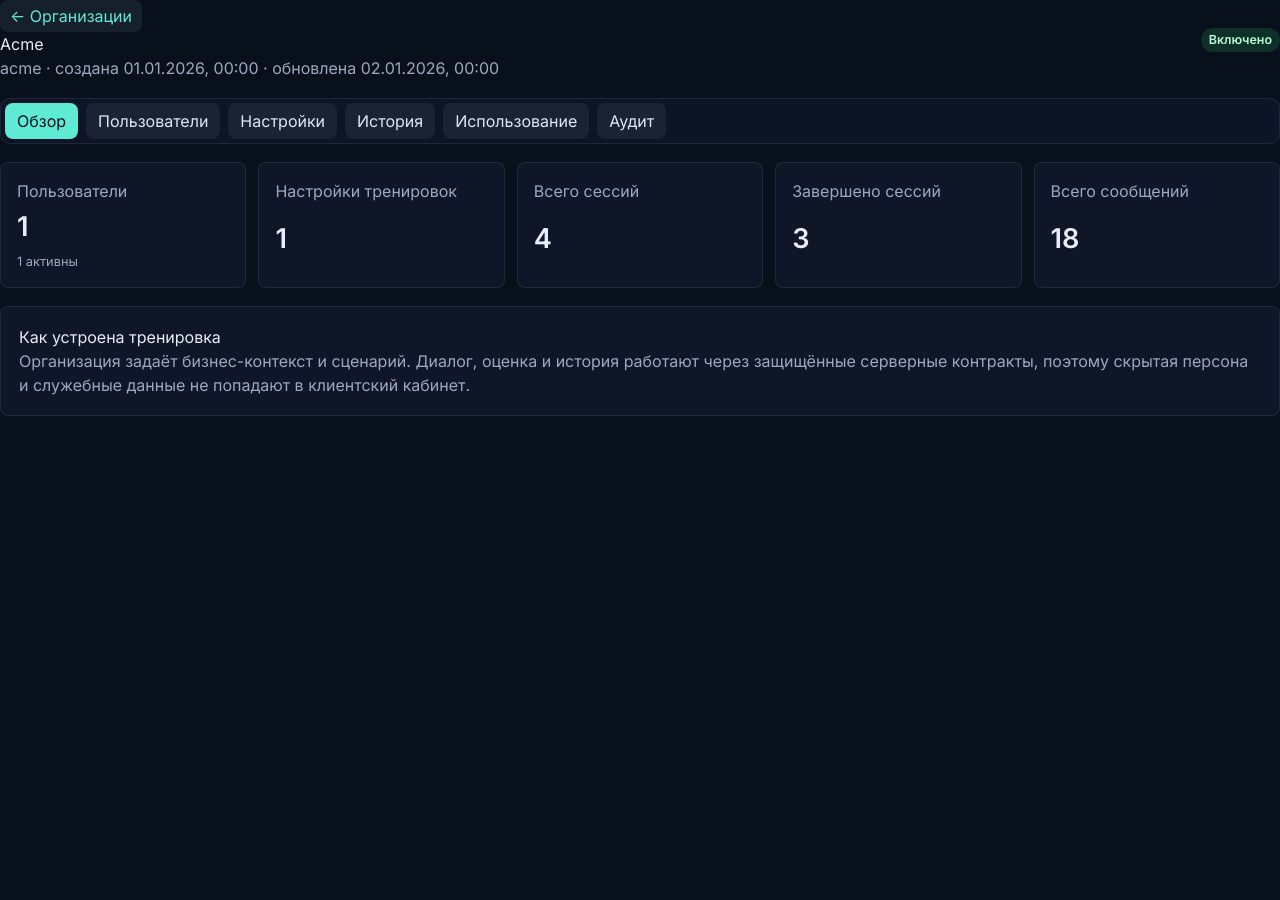
Test: OrganizationDetailPage training configs › renders usage breakdowns without raw JSON or training-config ids
This screenshot has width=1280, height=900.
Click the button "Использование": coordinates (516, 121) [443, 103, 589, 139]
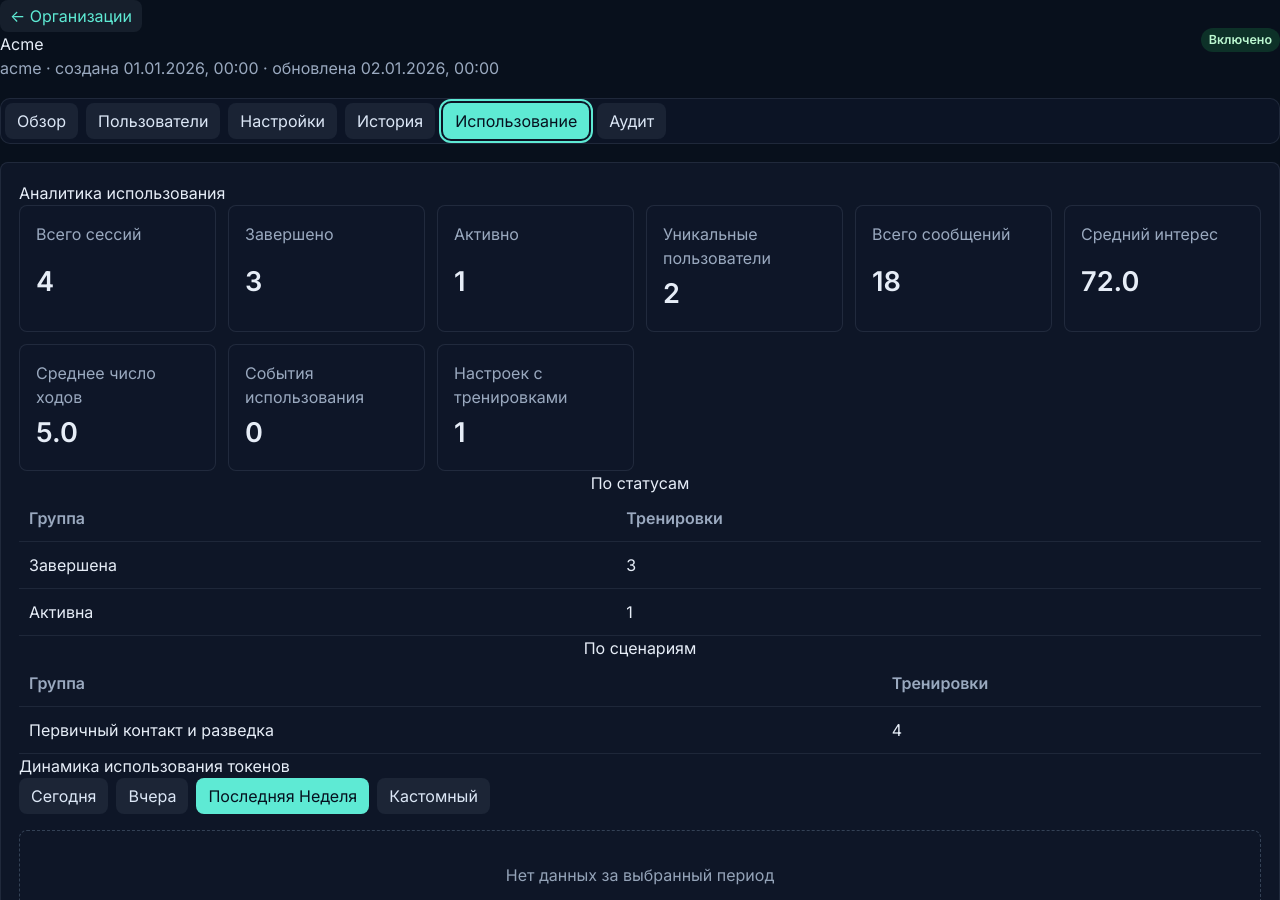
Result: the text "По статусам" is shown at [591, 473, 689, 493]
Result: the text "Завершена" is shown at [19, 541, 616, 588]
Result: the text "Активна" is shown at [19, 588, 616, 635]
